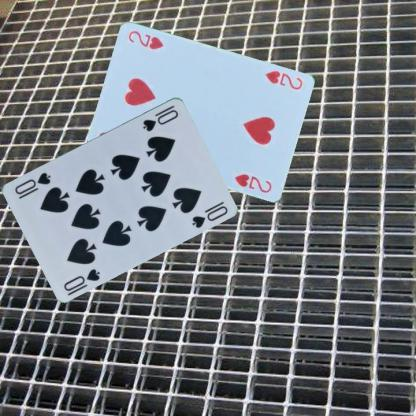10s: (140, 102, 180, 133), (61, 265, 102, 292)
2h: (262, 68, 304, 91)
